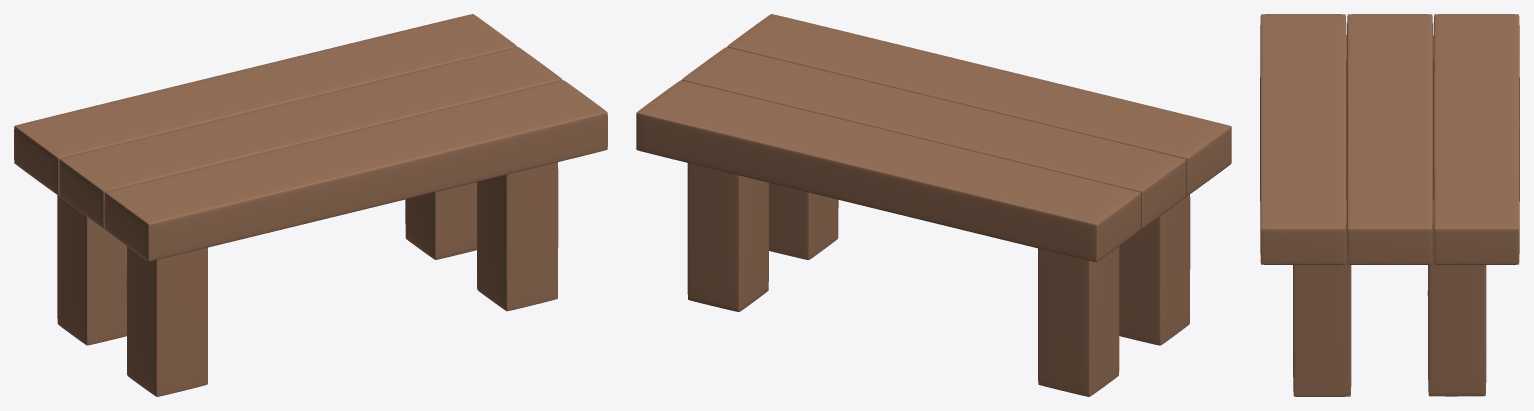
The model's file is table.fbx.
3 views of the same model, side by side, from view 1: azimuth 30°, elevation 25°; view 2: azimuth 150°, elevation 25°; view 3: azimuth 270°, elevation 25° (orthographic). The views are drawn at different scales.
Parts seen in each view (by area): view 1: Plane.001; view 2: Plane.001; view 3: Plane.001.
Part boxes in pixels (<box>): Plane.001: <box>14,14,607,396</box>; Plane.001: <box>636,14,1231,396</box>; Plane.001: <box>1260,14,1519,396</box>.
Bounding box in the file's own units: 586 × 235 × 299.
